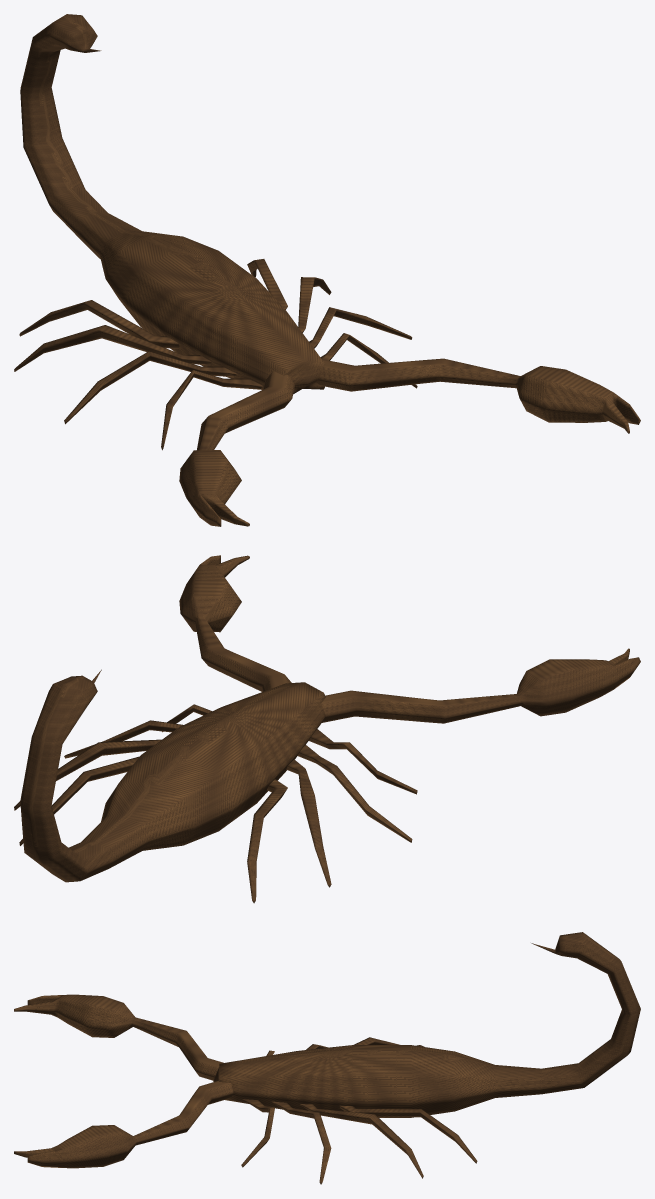
Rendered from scorpion.glb.
The picture shows the model from 3 angles, top to bottom: view 1: azimuth 30°, elevation 25°; view 2: azimuth 150°, elevation 25°; view 3: azimuth 270°, elevation 25°; orthographic projection. The views are drawn at different scales.
Parts seen in each view (by area): view 1: Geo_Scorpion; view 2: Geo_Scorpion; view 3: Geo_Scorpion.
Boxes of the visible parts, x1,y1,x2,y2 form: Geo_Scorpion: [14, 14, 640, 526]; Geo_Scorpion: [14, 555, 640, 903]; Geo_Scorpion: [14, 932, 640, 1184].
Size of the model in its own units: 70.13 by 37.86 by 116.
Materials: 1 (1 with a texture image).
